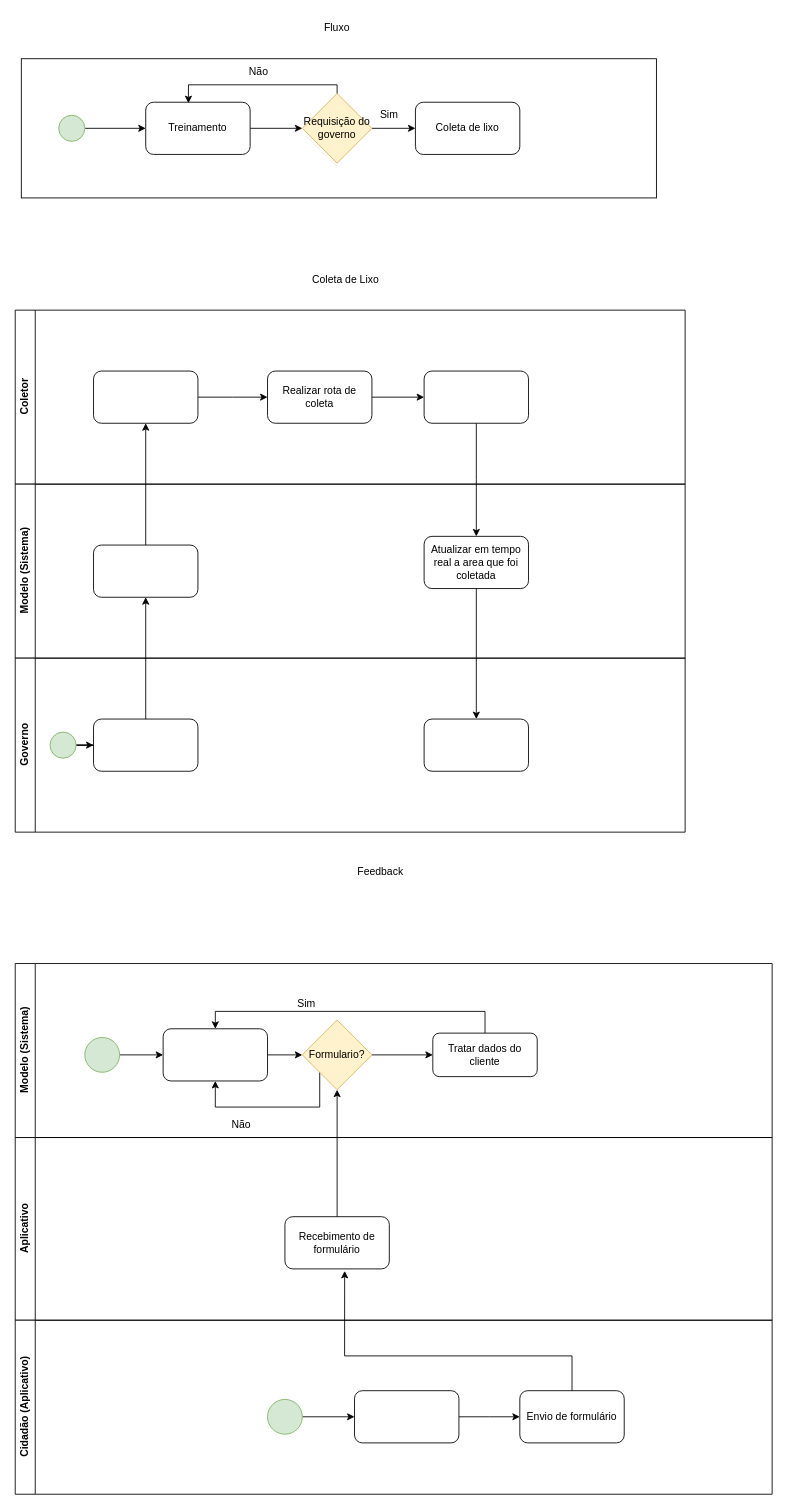
The diagram is 787 pixels wide and 1509 high, and some of its shapes have lost their labels. The shapes that lost their labels are listed below. From the top down, each one's centre as x and y in pixels, then its label:
At point 145,396: "Recebimento de rota de coleta pelo waze".
At point 476,396: "Recolhimento do lixo".
At point 145,570: "Gerar rota otimizada de coleta".
At point 145,744: "Enviar requisição de coleta ao sistema".
At point 476,744: "Acompanhamento da coleta de lixo".
At point 215,1054: "Treinar modelo".
At point 406,1416: "Acesso ao aplicativo".
